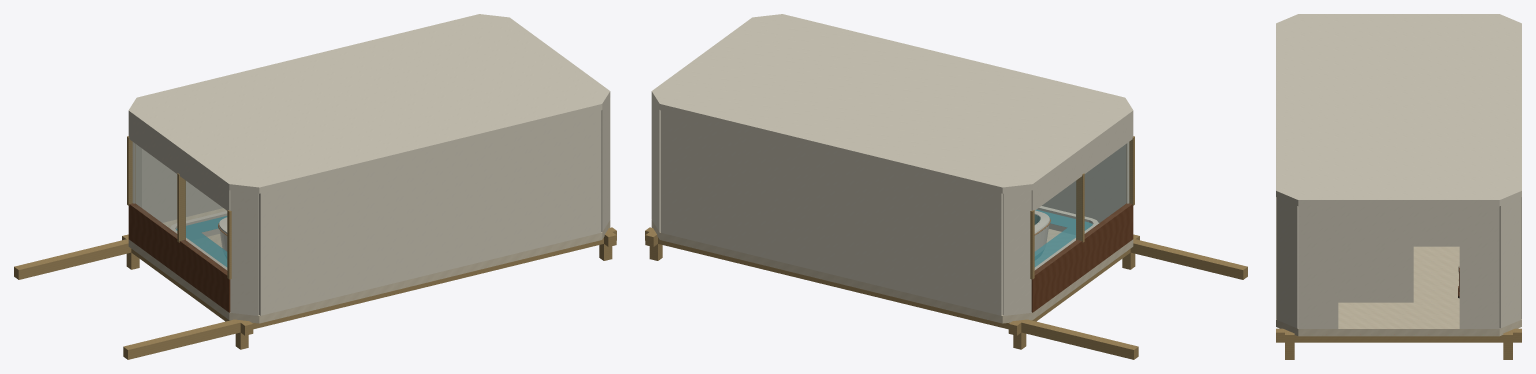
File: D04_STARBOARD_AFT_HOME_903_r001.glb
The picture shows the model from 3 angles, left to right: view 1: azimuth 30°, elevation 25°; view 2: azimuth 150°, elevation 25°; view 3: azimuth 270°, elevation 25°; orthographic projection.
Parts seen in each view (by area): view 1: SA903_D04H892_Roof, SA903_D04H892_Shell_7, SA903_D04H892_GardenGlass, SA903_D04H892_Floor, SA903_D04H892_GardenDado, SA903_D04H892_FloorCross_0, SA903_D04H892_Shell_6, SA903_D04H892_Shell_3, SA903_D04H892_GardenHead, SA903_D04H892_FloorCross_1, SA903_D04H892_Shell_0, SA903_D04H892_Water_0 (+4 smaller); view 2: SA903_D04H892_Roof, SA903_D04H892_Shell_3, SA903_D04H892_GardenGlass, SA903_D04H892_GardenDado, SA903_D04H892_Floor, SA903_D04H892_FloorCross_1, SA903_D04H892_Shell_4, SA903_D04H892_Shell_7, SA903_D04H892_GardenHead, SA903_D04H892_FloorCross_0, SA903_D04H892_Shell_2, SA903_D04H892_Water_0 (+5 smaller); view 3: SA903_D04H892_Roof, SA903_D04H892_Floor, SA903_D04H892_EntryWall_0, SA903_D04H892_EntryWall_1, SA903_D04H892_EntryHeader, SA903_D04H892_BathDogleg, SA903_D04H892_Shell_0, SA903_D04H892_Shell_2, SA903_D04H892_Long_-41.650000000000006.
Boxes of the visible parts, x1,y1,x2,y2 form: SA903_D04H892_Roof: [128, 14, 610, 193]; SA903_D04H892_Shell_7: [259, 110, 600, 315]; SA903_D04H892_GardenGlass: [131, 144, 226, 273]; SA903_D04H892_Floor: [128, 208, 610, 323]; SA903_D04H892_GardenDado: [128, 203, 230, 312]; SA903_D04H892_FloorCross_0: [123, 227, 616, 359]; SA903_D04H892_Shell_6: [230, 190, 258, 315]; SA903_D04H892_Shell_3: [142, 148, 222, 222]; SA903_D04H892_GardenHead: [128, 117, 230, 210]; SA903_D04H892_FloorCross_1: [14, 239, 131, 279]; SA903_D04H892_Shell_0: [601, 98, 609, 231]; SA903_D04H892_Water_0: [176, 216, 227, 266]; SA903_D04H892_Roof: [651, 14, 1133, 193]; SA903_D04H892_Shell_3: [661, 110, 1002, 315]; SA903_D04H892_GardenGlass: [1035, 144, 1126, 273]; SA903_D04H892_GardenDado: [1031, 203, 1133, 312]; SA903_D04H892_Floor: [651, 220, 1133, 323]; SA903_D04H892_FloorCross_1: [645, 227, 1138, 359]; SA903_D04H892_Shell_4: [1003, 190, 1031, 315]; SA903_D04H892_Shell_7: [1042, 148, 1119, 222]; SA903_D04H892_GardenHead: [1031, 117, 1133, 210]; SA903_D04H892_FloorCross_0: [1130, 239, 1247, 279]; SA903_D04H892_Shell_2: [652, 98, 660, 231]; SA903_D04H892_Water_0: [1034, 209, 1092, 266]; SA903_D04H892_Roof: [1276, 14, 1521, 206]; SA903_D04H892_Floor: [1276, 246, 1521, 336]; SA903_D04H892_EntryWall_0: [1298, 206, 1338, 328]; SA903_D04H892_EntryWall_1: [1459, 206, 1499, 328]; SA903_D04H892_EntryHeader: [1338, 206, 1459, 246]; SA903_D04H892_BathDogleg: [1338, 246, 1413, 302]; SA903_D04H892_Shell_0: [1277, 197, 1298, 328]; SA903_D04H892_Shell_2: [1499, 197, 1520, 328]; SA903_D04H892_Long_-41.650000000000006: [1276, 328, 1521, 342].
Bounding box in the file's own units: 16.55 × 5.24 × 7.2.
Materials: 40 (21 with a texture image).
